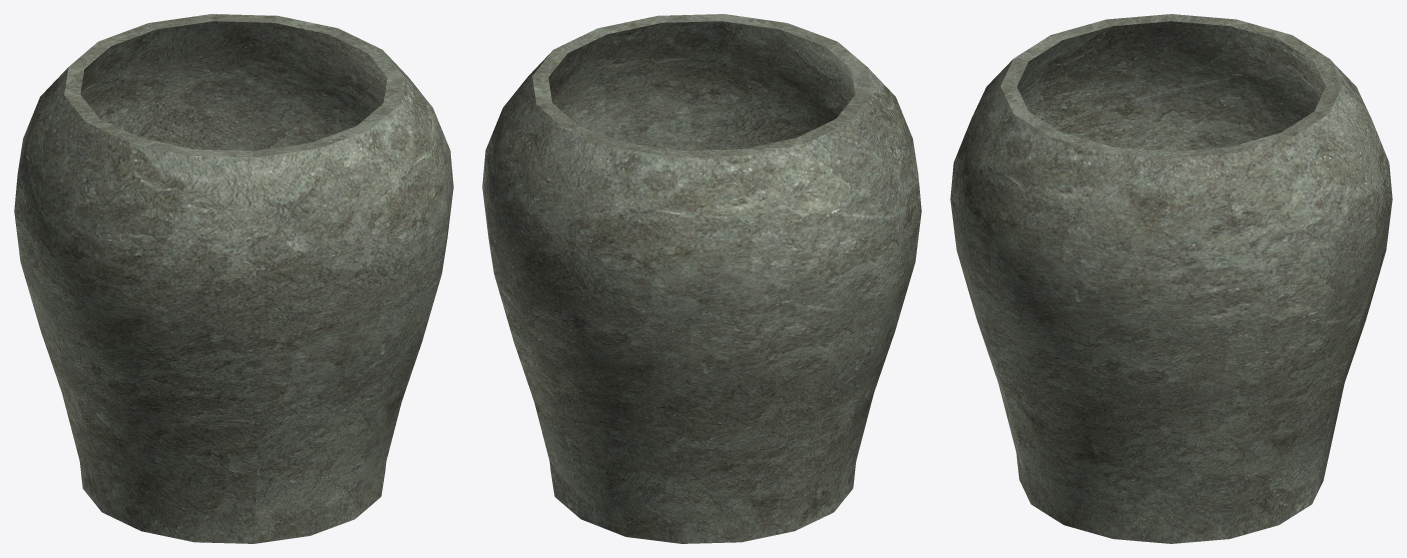
File: Vase 3.FBX
The picture shows the model from 3 angles, left to right: view 1: azimuth 30°, elevation 25°; view 2: azimuth 150°, elevation 25°; view 3: azimuth 270°, elevation 25°; orthographic projection.
Parts seen in each view (by area): view 1: vase 3; view 2: vase 3; view 3: vase 3.
Boxes of the visible parts, x1=… form: vase 3: x1=14, y1=14, x2=453, y2=543; vase 3: x1=482, y1=14, x2=921, y2=543; vase 3: x1=950, y1=14, x2=1392, y2=543.
Bounding box in the file's own units: 30.99 × 30.51 × 30.99.
Materials: 1 (1 with a texture image).
